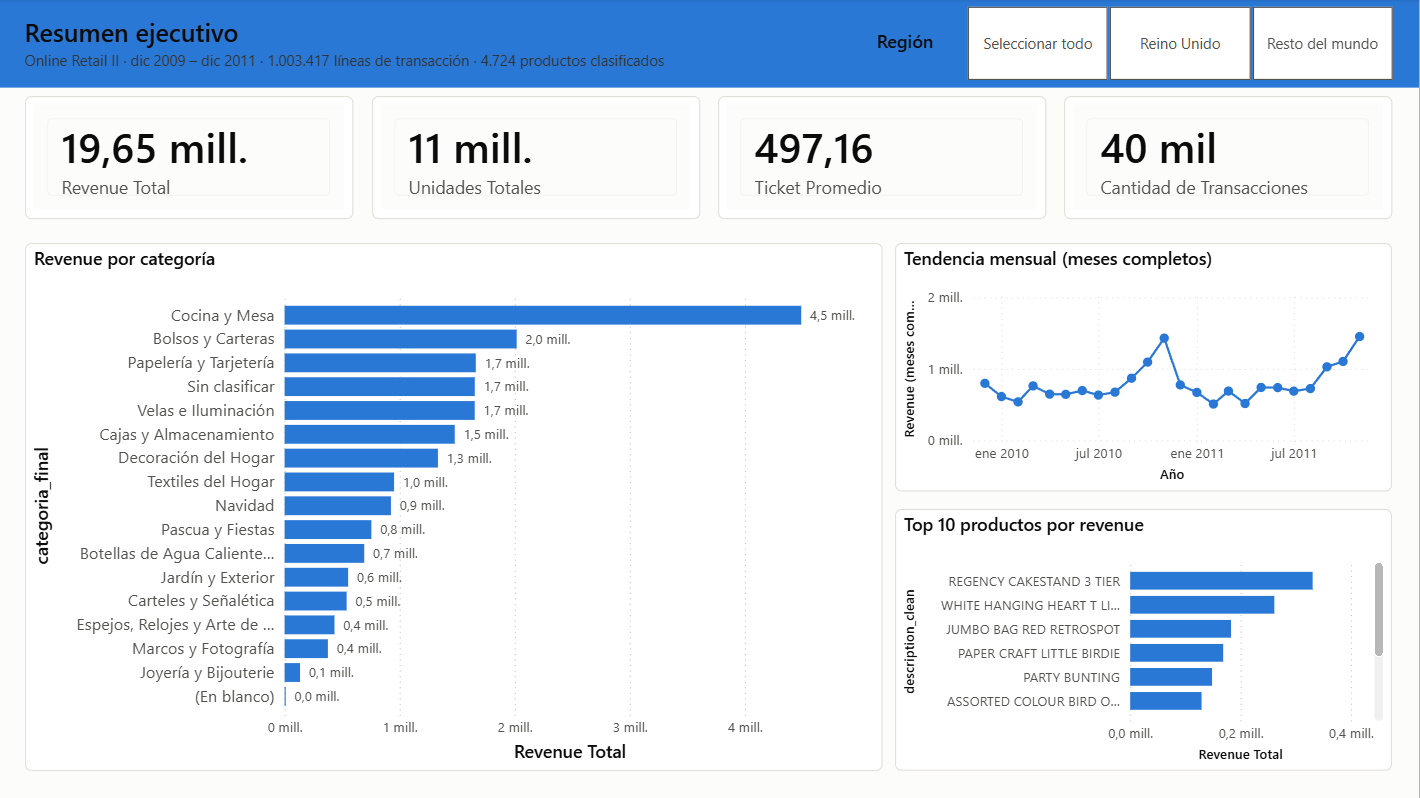

What the dashboard file says about the page in this screenshot:
{"tool":"powerbi","page":{"name":"Resumen","canvas":[1280,720],"ordinal":0},"visuals":[{"type":"shape","box":[0,0,1280.2,79.9],"z":0},{"type":"shape","box":[0,71,1280,1],"z":1000},{"type":"textbox","box":[18.4,9.7,619.9,42.1],"z":2000},{"type":"textbox","box":[18.4,41.3,779.7,29.9],"z":3000},{"type":"cardVisual","fields":{"Data":["Medidas.Revenue Total"]},"box":[23.7,87.8,295.9,110.6],"z":4000},{"type":"cardVisual","fields":{"Data":["Medidas.Unidades Totales"]},"box":[336.3,87.8,295.9,110.6],"z":5000},{"type":"cardVisual","fields":{"Data":["Medidas.Ticket Promedio"]},"box":[648,87.8,295.9,110.6],"z":6000},{"type":"cardVisual","fields":{"Data":["Medidas.Cantidad de Transacciones"]},"box":[959.7,87.8,295.9,110.6],"z":7000},{"type":"textbox","box":[767.4,22.8,79.9,36.9],"z":9000},{"type":"clusteredBarChart","title":"Revenue por categoría","fields":{"Category":["dim_producto.categoria_final"],"Y":["Medidas.Revenue Total"]},"box":[23.7,220.4,772.7,475.9],"z":10000},{"type":"lineChart","title":"Tendencia mensual (meses completos)","fields":{"Category":["dim_fecha.anio_mes.Variación.Jerarquía de fechas.Año","dim_fecha.anio_mes.Variación.Jerarquía de fechas.Trimestre","dim_fecha.anio_mes.Variación.Jerarquía de fechas.Mes","dim_fecha.anio_mes.Variación.Jerarquía de fechas.Día"],"Y":["Medidas.Revenue (meses completos)"]},"box":[807.8,220.4,447.8,223.9],"z":11000},{"type":"clusteredBarChart","title":"Top 10 productos por revenue","fields":{"Category":["dim_producto.description_clean"],"Y":["Medidas.Revenue Total"]},"box":[808,460,448,236],"z":12000},{"type":"slicer","fields":{"Values":["fact_ventas.region"]},"box":[847.3,0,432.9,79.9],"z":15000}]}

Visuals, with their boxes in screenshot pixels (x1, y1, x2, y2), scaled from the page's 1280x720 canvas onto the 1420x798 screenshot:
shape: 0,0,1419,89
shape: 0,79,1419,80
textbox: 20,11,708,57
textbox: 20,46,885,79
cardVisual - Medidas.Revenue Total: 26,97,355,220
cardVisual - Medidas.Unidades Totales: 373,97,701,220
cardVisual - Medidas.Ticket Promedio: 719,97,1047,220
cardVisual - Medidas.Cantidad de Transacciones: 1065,97,1393,220
textbox: 851,25,940,66
"Revenue por categoría" clusteredBarChart: 26,244,884,772
"Tendencia mensual (meses completos)" lineChart: 896,244,1393,492
"Top 10 productos por revenue" clusteredBarChart: 896,510,1393,771
slicer - fact_ventas.region: 940,0,1419,89
